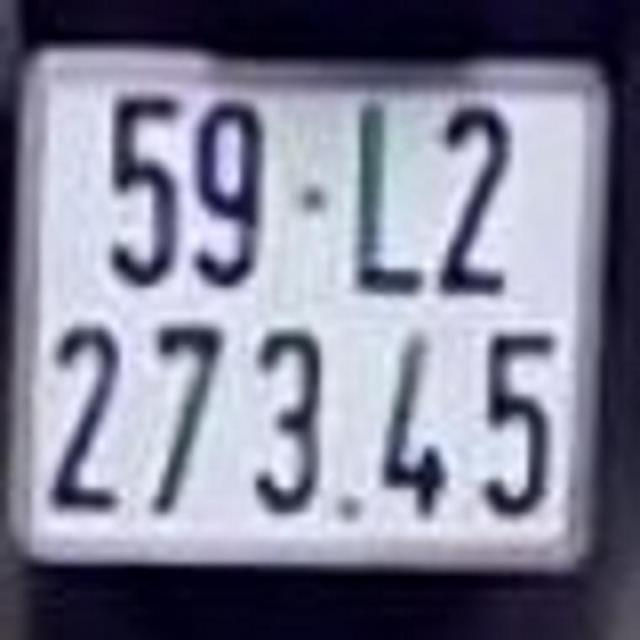2: (438, 97, 512, 297), (49, 314, 124, 511)
3: (245, 324, 326, 518)
4: (376, 321, 452, 522)
5: (477, 324, 560, 519), (108, 89, 182, 281)
7: (150, 318, 224, 516)
9: (191, 95, 269, 288)
L: (348, 92, 430, 308)
